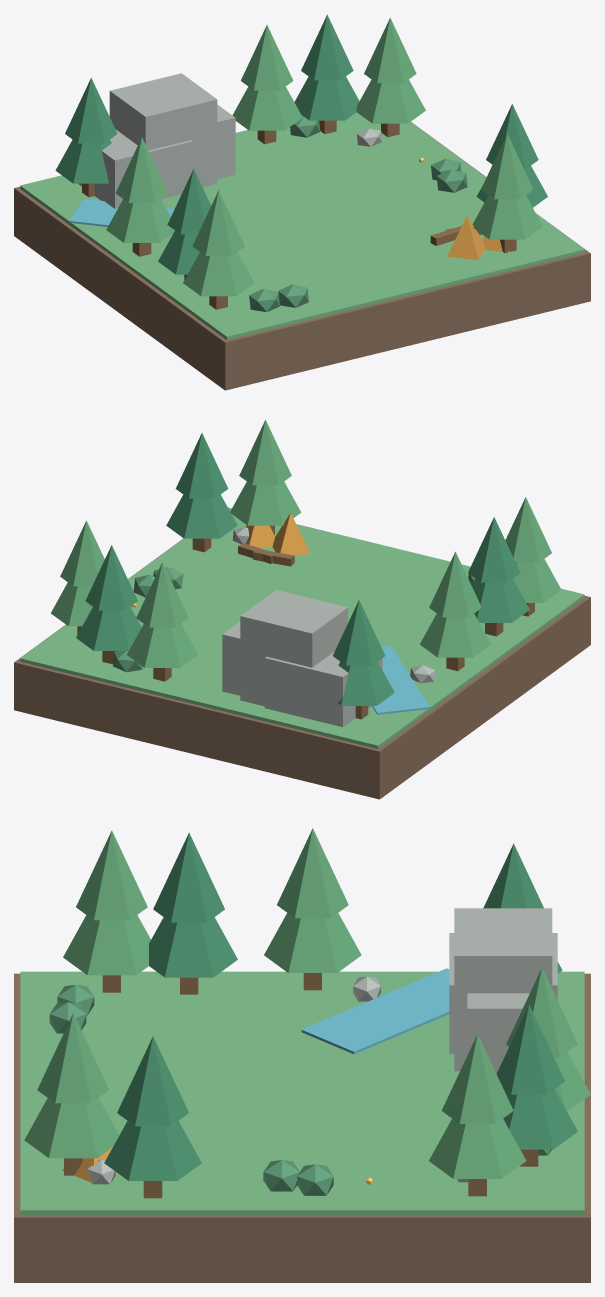
Rendered from greenfield-arena-v2.glb.
3 views of the same model, one above another, from view 1: azimuth 30°, elevation 25°; view 2: azimuth 150°, elevation 25°; view 3: azimuth 270°, elevation 25° (orthographic). The views are drawn at different scales.
Visible parts, largest first — view 1: walk_ground, diorama_earth, cliff_block.001, cliff_block, tree_low, tree_low.008, tree_low.006, tree_low.004, tree_low.005, tree_low.002, tree_high.005, tree_high.008 (+16 smaller); view 2: walk_ground, diorama_earth, cliff_block.001, cliff_block, tree_low.007, tree_low.002, tree_low.004, tree_low.008, tree_low.005, tree_high.007, tree_high.002, tree_high.008 (+15 smaller); view 3: walk_ground, diorama_earth, cliff_block.001, tree_low.008, tree_low.006, tree_low.002, tree_low.007, tree_low.001, tree_low, tree_high.007, tree_high.002, tree_high.008 (+19 smaller).
Boxes of the visible parts, x1,y1,x2,y2 form: walk_ground: (20,112,584,339); diorama_earth: (14,122,590,390); cliff_block.001: (109,73,217,187); cliff_block: (78,129,193,208); tree_low: (183,252,254,296); tree_low.008: (472,195,542,239); tree_low.006: (356,79,425,123); tree_low.004: (232,86,302,130); tree_low.005: (294,76,359,120); tree_low.002: (106,199,174,242); tree_high.005: (301,14,353,80); tree_high.008: (481,134,533,199); walk_ground: (20,507,584,748); diorama_earth: (14,538,590,799); cliff_block.001: (240,590,347,706); cliff_block: (264,648,382,727); tree_low.007: (166,494,237,538); tree_low.002: (420,613,490,657); tree_low.004: (127,624,197,667); tree_low.008: (230,482,301,525); tree_low.005: (76,607,141,650); tree_high.007: (175,433,228,498); tree_high.002: (429,551,481,617); tree_high.008: (239,420,291,485); walk_ground: (20,971,584,1214); diorama_earth: (14,973,590,1282); cliff_block.001: (454,908,552,1071); tree_low.008: (24,1098,119,1158); tree_low.006: (429,1118,526,1178); tree_low.002: (264,913,361,972); tree_low.007: (104,1121,201,1180); tree_low.001: (149,917,237,977); tree_low: (63,915,150,975); tree_high.007: (117,1036,188,1126); tree_high.002: (277,828,348,918); tree_high.008: (37,1013,108,1103).
Bounding box in the file's own units: 11.22 × 4.89 × 11.2.
